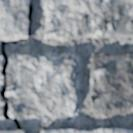brick: (44, 0, 132, 40), (90, 53, 132, 113), (0, 0, 29, 38), (42, 128, 132, 132), (0, 130, 24, 132)
broken_brick: (6, 54, 78, 117), (0, 55, 3, 90), (0, 95, 4, 115)
crack: (0, 2, 33, 130), (90, 88, 101, 103), (91, 53, 109, 59)
